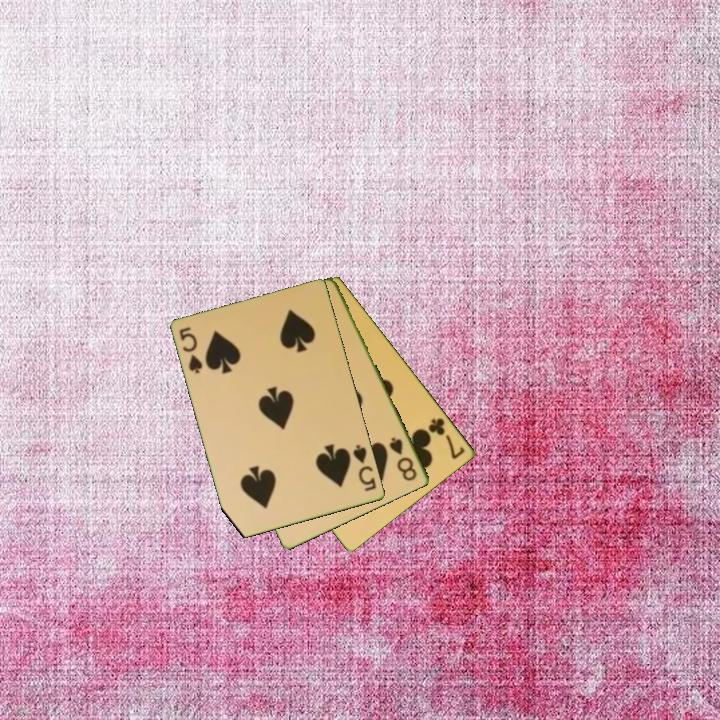5s: (350, 441, 380, 494), (176, 324, 206, 377)
7c: (425, 414, 468, 462)
8s: (386, 433, 420, 484)
